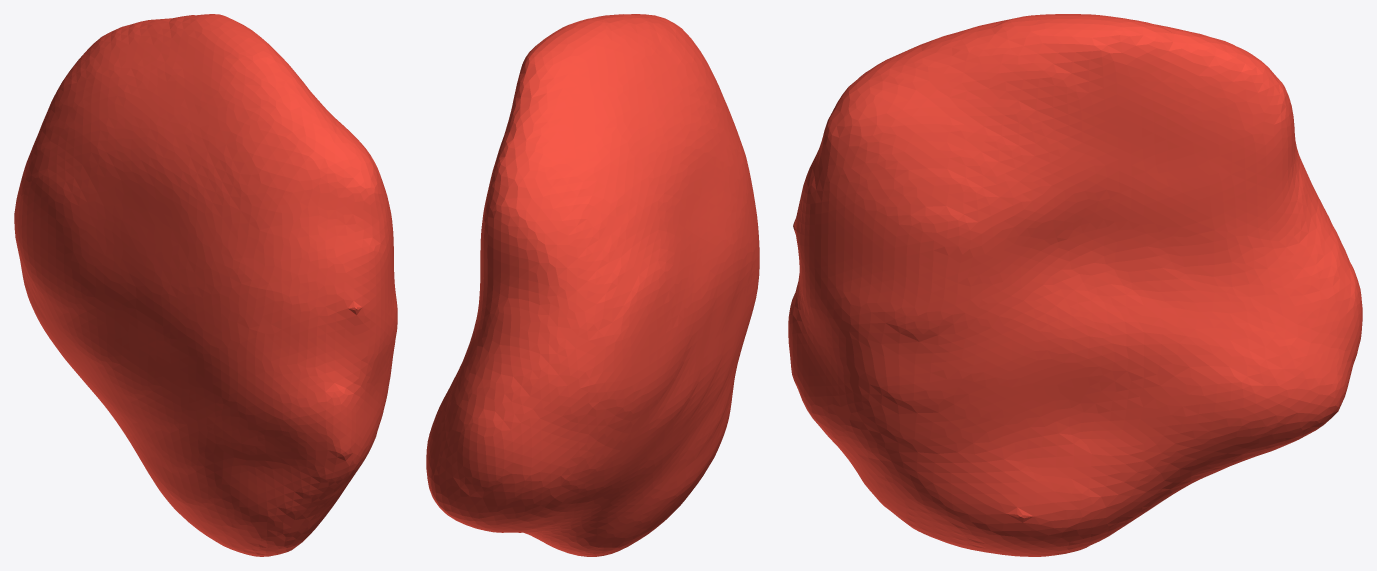
Rendered from case_30_stroke.gltf.
3 views of the same model, side by side, from view 1: azimuth 30°, elevation 25°; view 2: azimuth 150°, elevation 25°; view 3: azimuth 270°, elevation 25° (orthographic). The views are drawn at different scales.
Visible parts, largest first — view 1: stroke; view 2: stroke; view 3: stroke.
Part boxes in pixels (x1=…): stroke: x1=14, y1=14, x2=397, y2=556; stroke: x1=426, y1=14, x2=759, y2=556; stroke: x1=788, y1=14, x2=1362, y2=556.
Size of the model in its own units: 0.9176 by 1.96 by 1.89.
